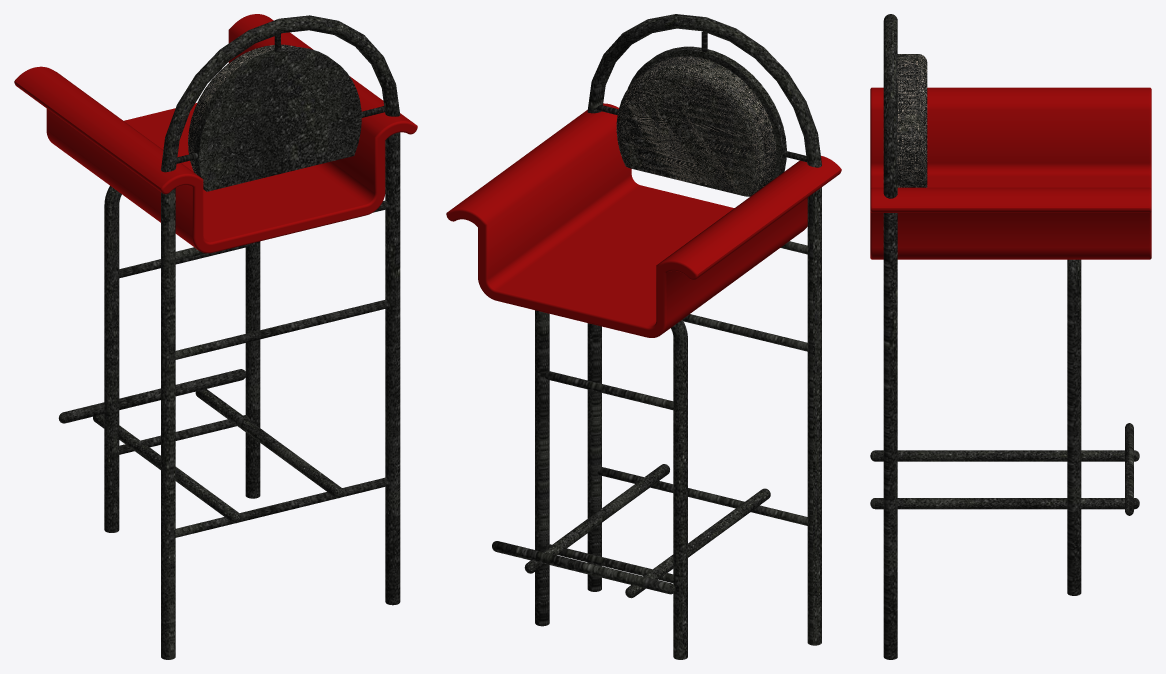
3 views of the same model, side by side, from view 1: azimuth 30°, elevation 25°; view 2: azimuth 150°, elevation 25°; view 3: azimuth 270°, elevation 25° (orthographic). The views are drawn at different scales.
Parts seen in each view (by area): view 1: mesh32_mesh32-geometry, mesh10_mesh10-geometry, mesh29_mesh29-geometry, mesh20_mesh20-geometry, mesh23_mesh23-geometry, mesh4_mesh4-geometry, mesh21_mesh21-geometry, mesh1_mesh1-geometry, mesh22_mesh22-geometry, mesh14_mesh14-geometry, mesh17_mesh17-geometry; view 2: mesh32_mesh32-geometry, mesh29_mesh29-geometry, mesh10_mesh10-geometry, mesh20_mesh20-geometry, mesh21_mesh21-geometry, mesh23_mesh23-geometry, mesh22_mesh22-geometry, mesh1_mesh1-geometry, mesh17_mesh17-geometry, mesh4_mesh4-geometry, mesh14_mesh14-geometry; view 3: mesh32_mesh32-geometry, mesh10_mesh10-geometry, mesh20_mesh20-geometry, mesh29_mesh29-geometry, mesh22_mesh22-geometry, mesh23_mesh23-geometry, mesh21_mesh21-geometry.
Part boxes in pixels (<box>): mesh32_mesh32-geometry: <box>14,14,417,253</box>; mesh10_mesh10-geometry: <box>161,15,400,659</box>; mesh29_mesh29-geometry: <box>188,44,361,191</box>; mesh20_mesh20-geometry: <box>104,186,260,532</box>; mesh23_mesh23-geometry: <box>195,389,343,498</box>; mesh4_mesh4-geometry: <box>175,299,389,359</box>; mesh21_mesh21-geometry: <box>58,369,245,423</box>; mesh1_mesh1-geometry: <box>175,477,389,537</box>; mesh22_mesh22-geometry: <box>93,414,241,523</box>; mesh14_mesh14-geometry: <box>119,415,249,454</box>; mesh17_mesh17-geometry: <box>119,244,249,278</box>; mesh32_mesh32-geometry: <box>446,103,841,337</box>; mesh29_mesh29-geometry: <box>616,46,786,196</box>; mesh10_mesh10-geometry: <box>587,14,821,645</box>; mesh20_mesh20-geometry: <box>535,310,687,659</box>; mesh21_mesh21-geometry: <box>492,541,675,594</box>; mesh23_mesh23-geometry: <box>524,464,669,573</box>; mesh22_mesh22-geometry: <box>625,488,770,598</box>; mesh1_mesh1-geometry: <box>597,467,807,525</box>; mesh17_mesh17-geometry: <box>545,371,673,409</box>; mesh4_mesh4-geometry: <box>682,314,807,351</box>; mesh14_mesh14-geometry: <box>545,544,673,582</box>; mesh32_mesh32-geometry: <box>870,87,1151,259</box>; mesh10_mesh10-geometry: <box>883,14,897,659</box>; mesh20_mesh20-geometry: <box>1067,259,1081,595</box>; mesh29_mesh29-geometry: <box>897,54,927,187</box>; mesh22_mesh22-geometry: <box>870,450,1139,461</box>; mesh23_mesh23-geometry: <box>870,498,1139,509</box>; mesh21_mesh21-geometry: <box>1125,423,1133,515</box>.
Size of the model in its own units: 0.3736 by 0.849 by 0.3736.
